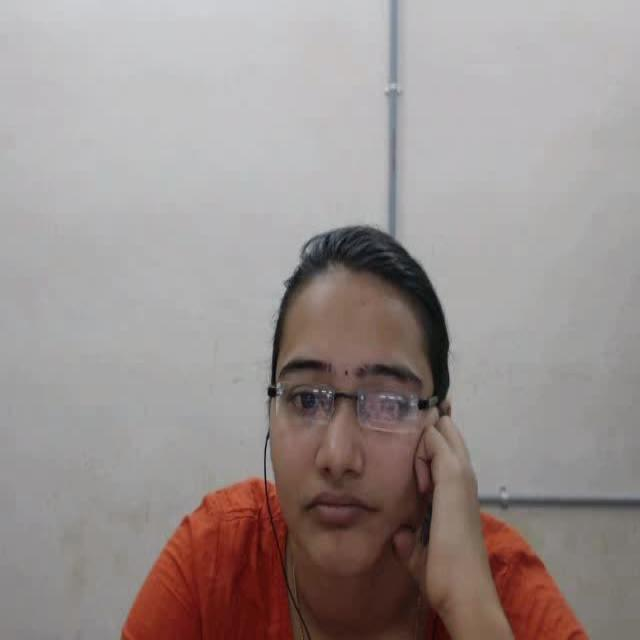Bored: (218, 209, 484, 591)
